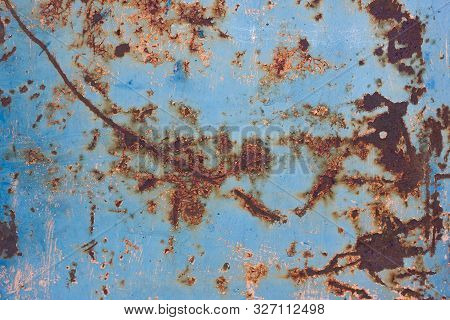rust: (117, 119, 211, 228), (349, 210, 436, 296), (365, 102, 431, 192), (362, 3, 426, 71)
